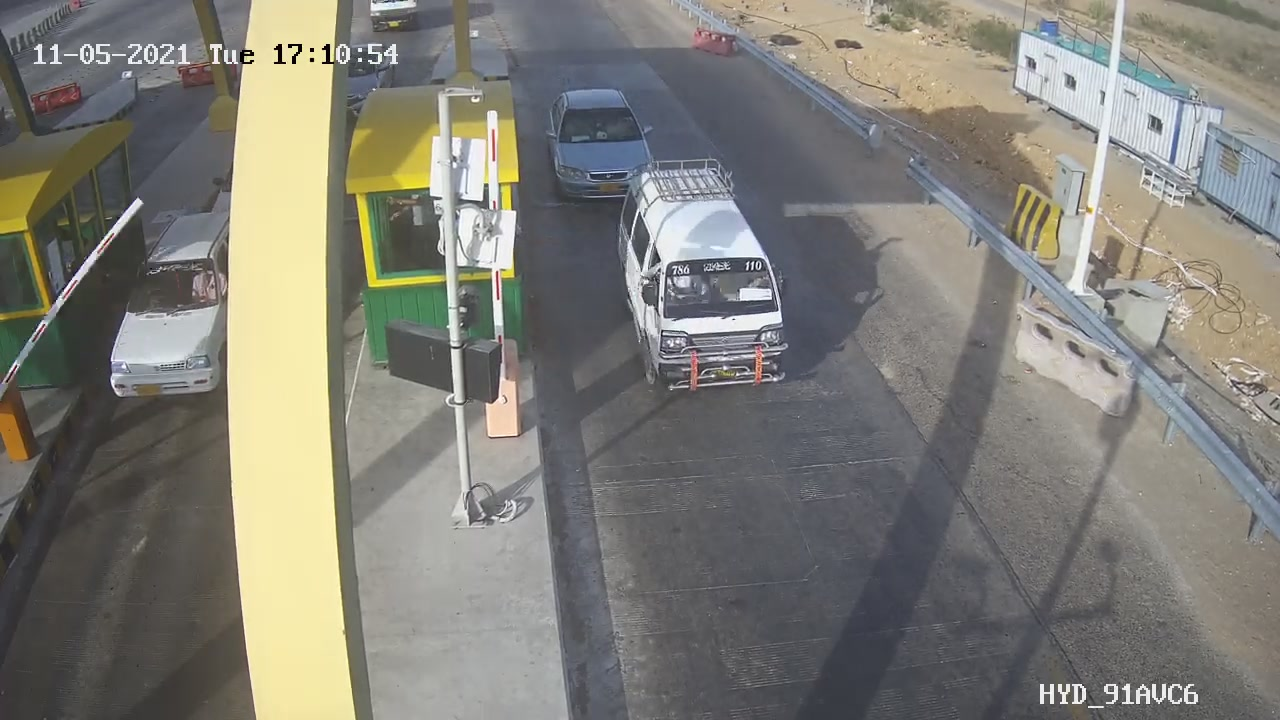F1: (603, 142, 811, 414), (531, 72, 679, 221)
